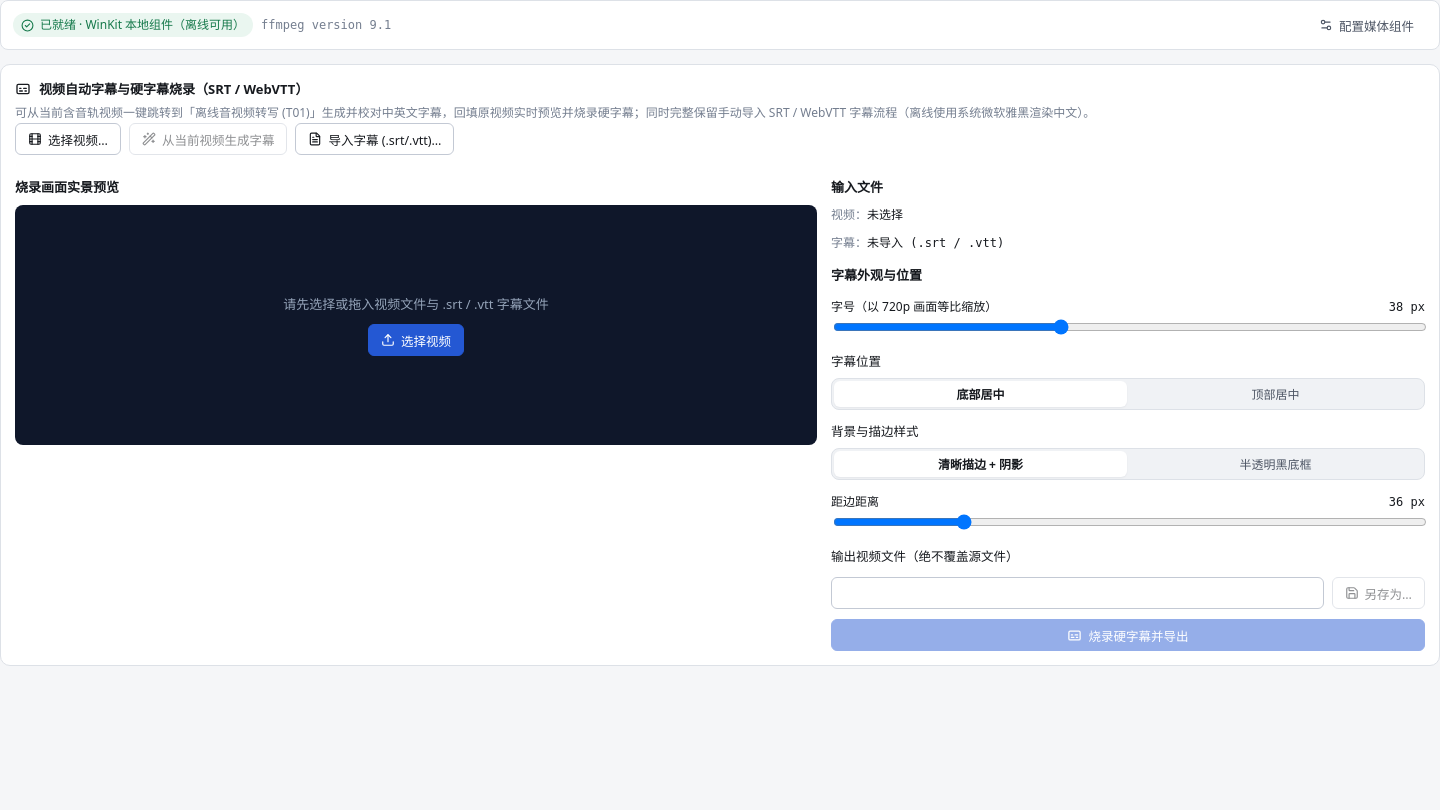
it: VideoSubtitlesWorkspace (V02) › loads video and SRT cues, previews clicked cue frame, toggles Black Box style, and exports burned video with allowOverwrite=false by default
Click the button "选择视频…".
click(68, 139)  # box [15, 123, 121, 155]
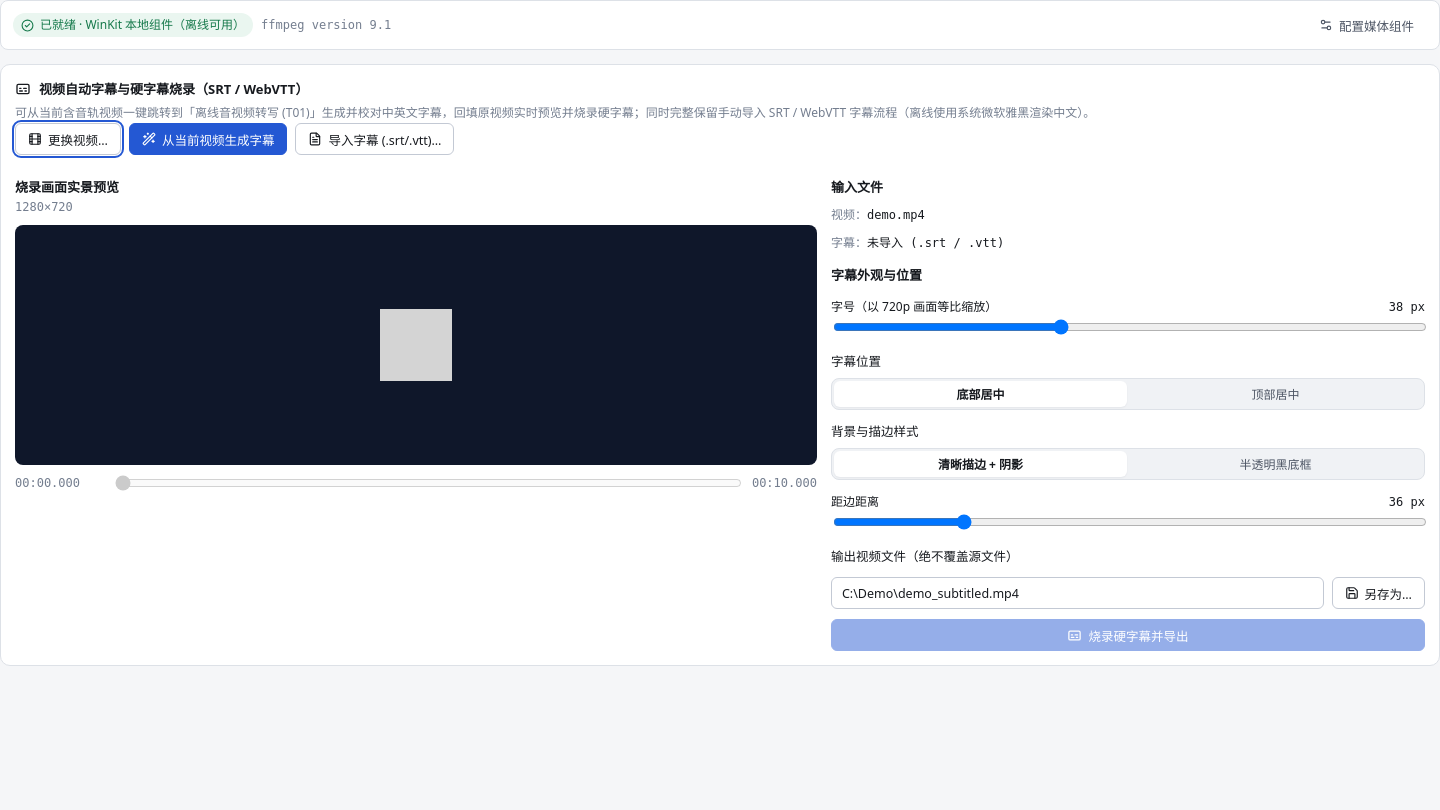
Result: the text "demo.mp4" is shown at [867, 208, 925, 222]
Result: the button with test id "v02-generate-subtitles-btn" is enabled at [129, 123, 287, 155]
Click the button "导入字幕 (.srt/.vtt)…".
click(375, 139)  # box [295, 123, 454, 155]
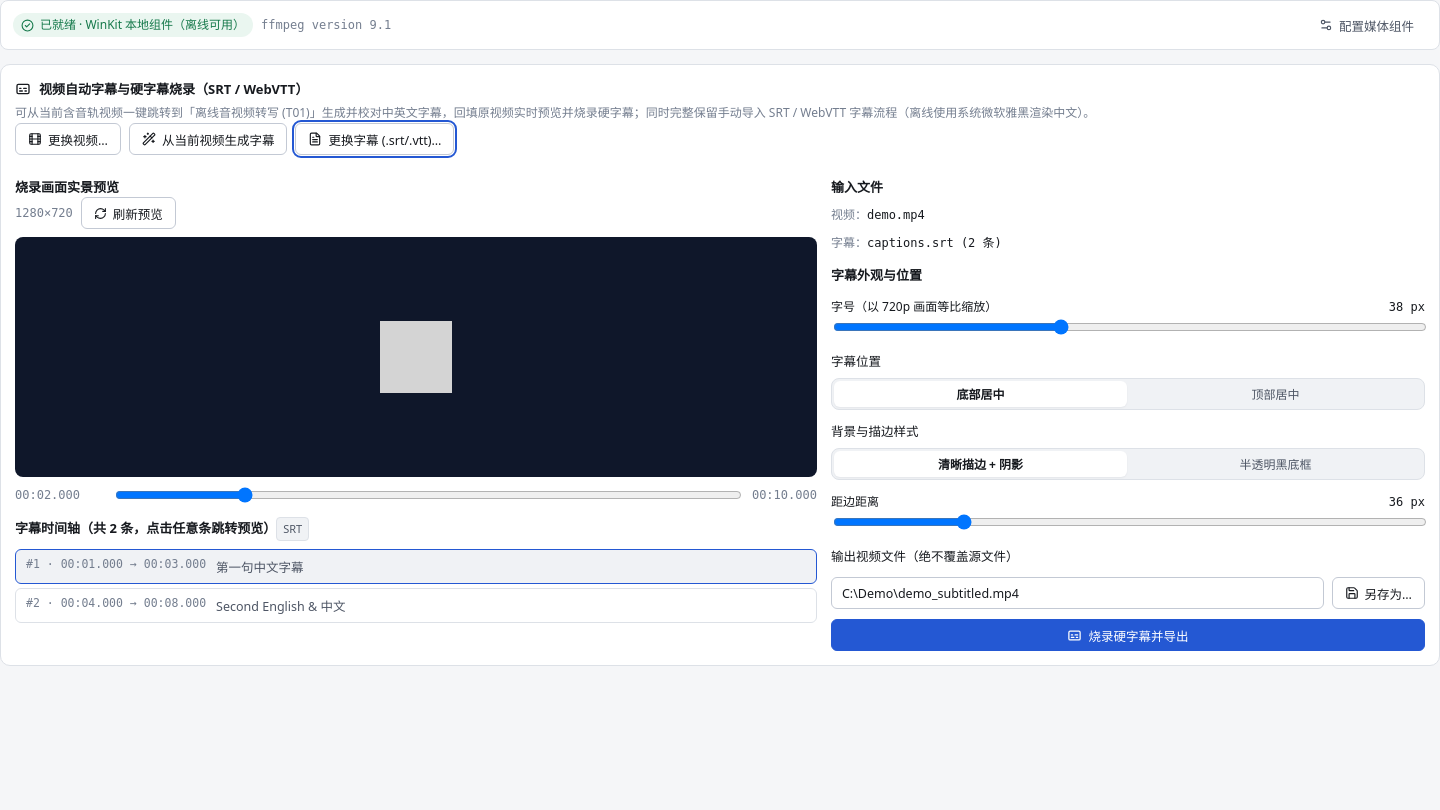
Result: the text "第一句中文字幕" is shown at [216, 557, 304, 576]
Click the option "#2 · 00:04.000 → 00:08.000 Second English & 中文".
click(92, 603)  # box [15, 588, 817, 623]
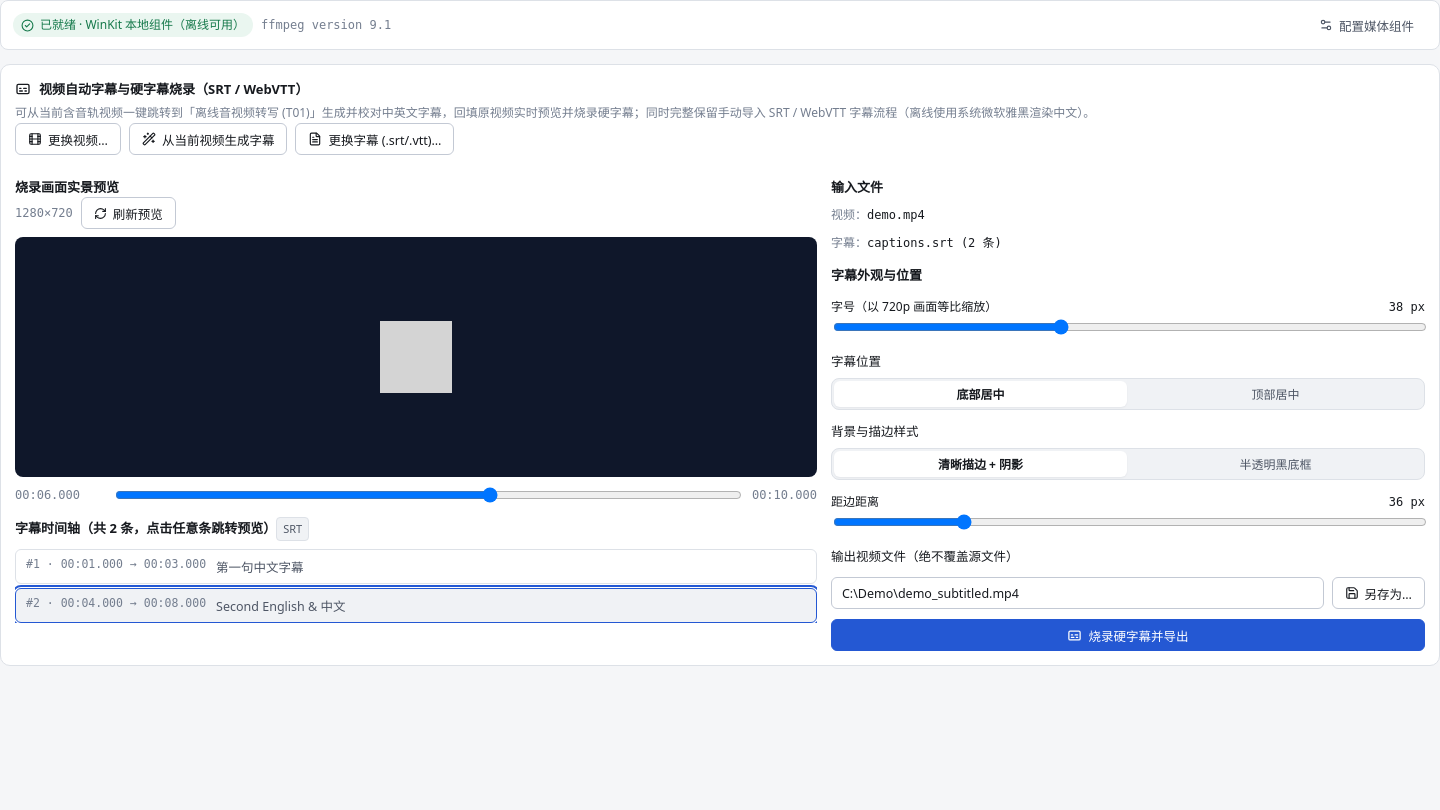
Switch style to Black Box and export
Click the radio button labelled "半透明黑底框".
click(1276, 464)  # box [1129, 451, 1422, 477]
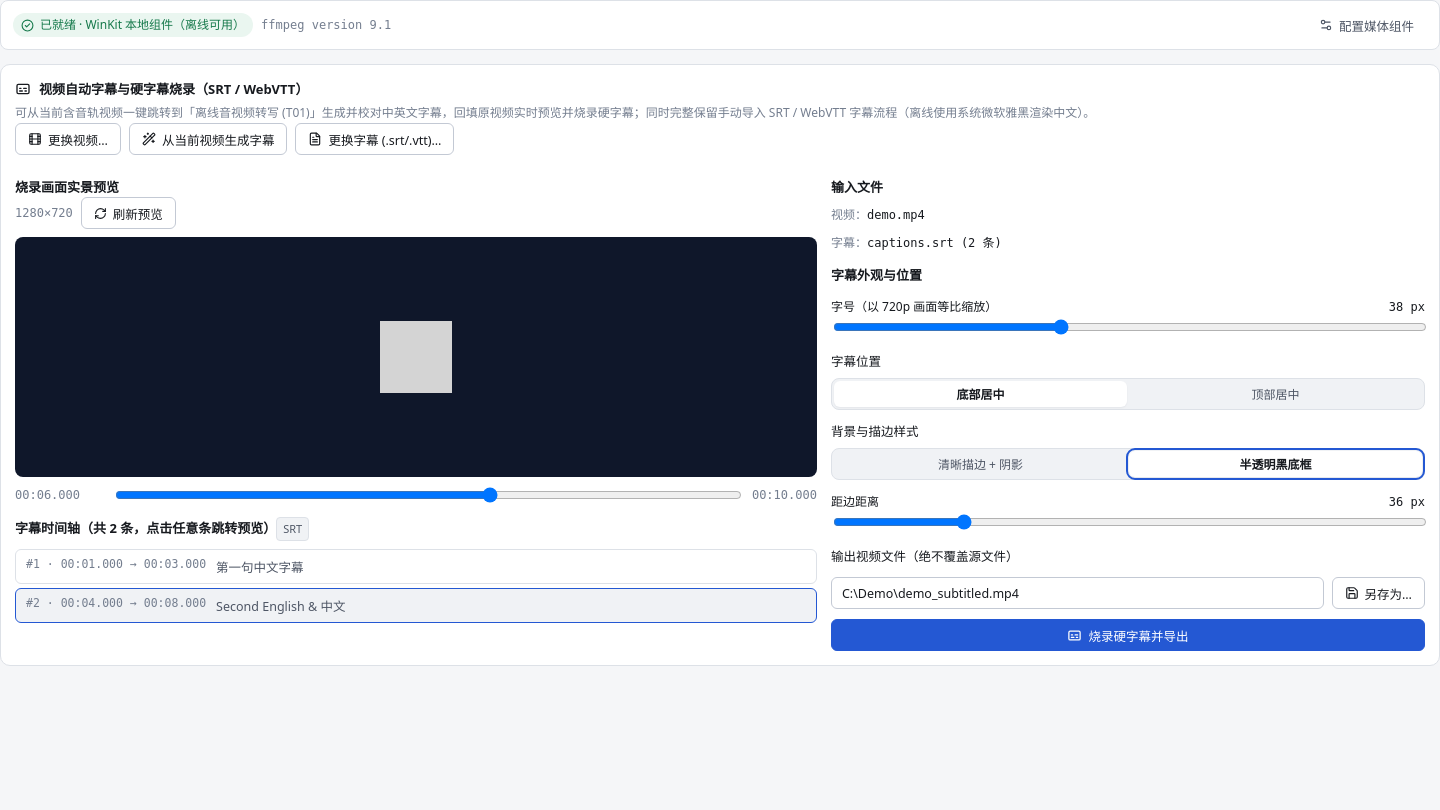
Click the button "烧录硬字幕并导出".
click(1128, 635)  # box [831, 619, 1425, 651]
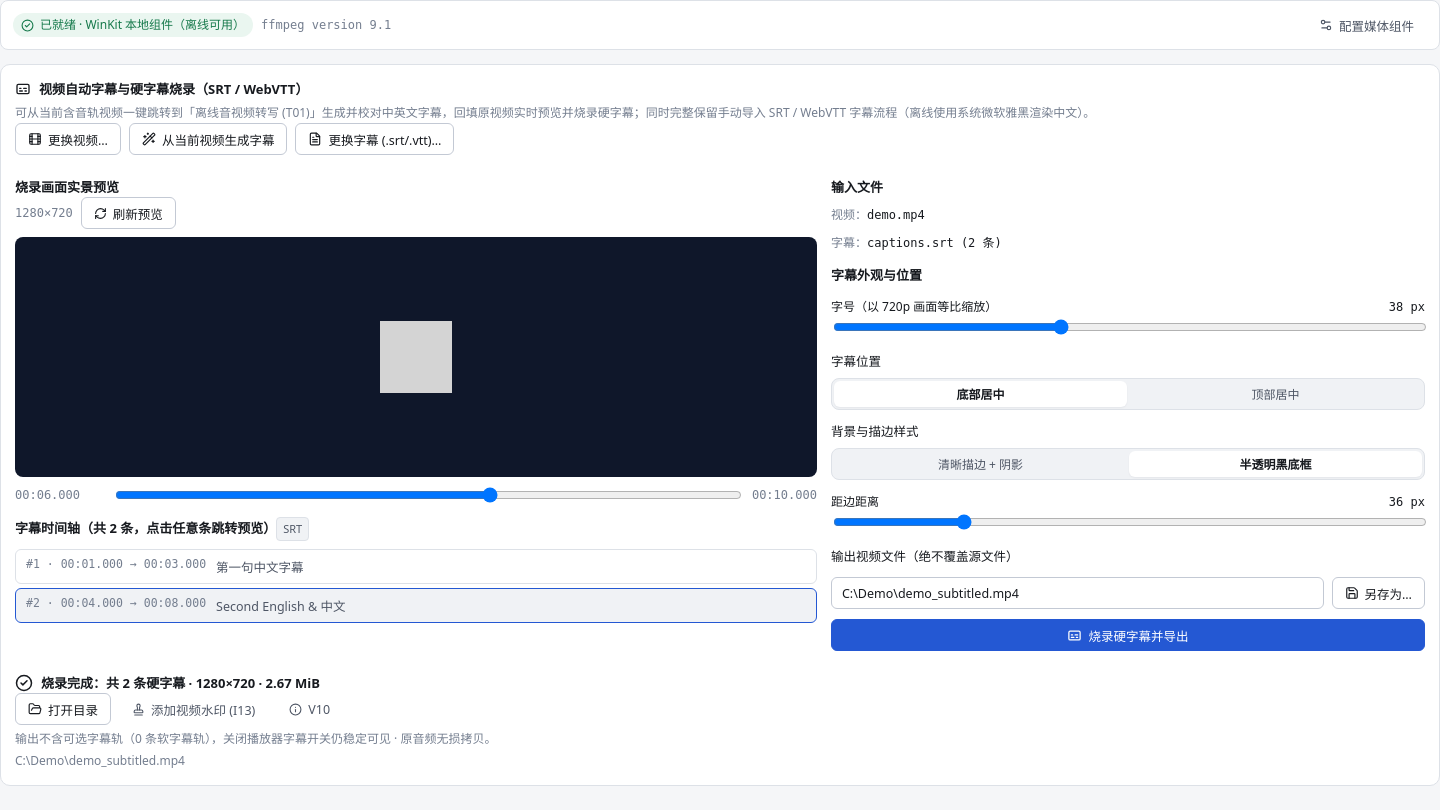
Result: the text "烧录完成：共 2 条硬字幕 · 1280×720 · 2.67 MiB" is shown at [41, 673, 320, 693]
